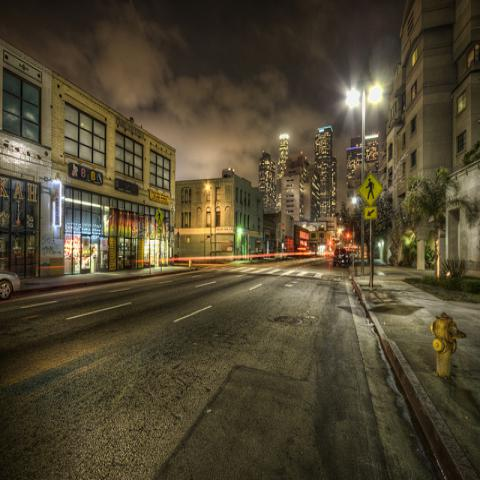car: (0, 270, 21, 300), (333, 248, 352, 267)
